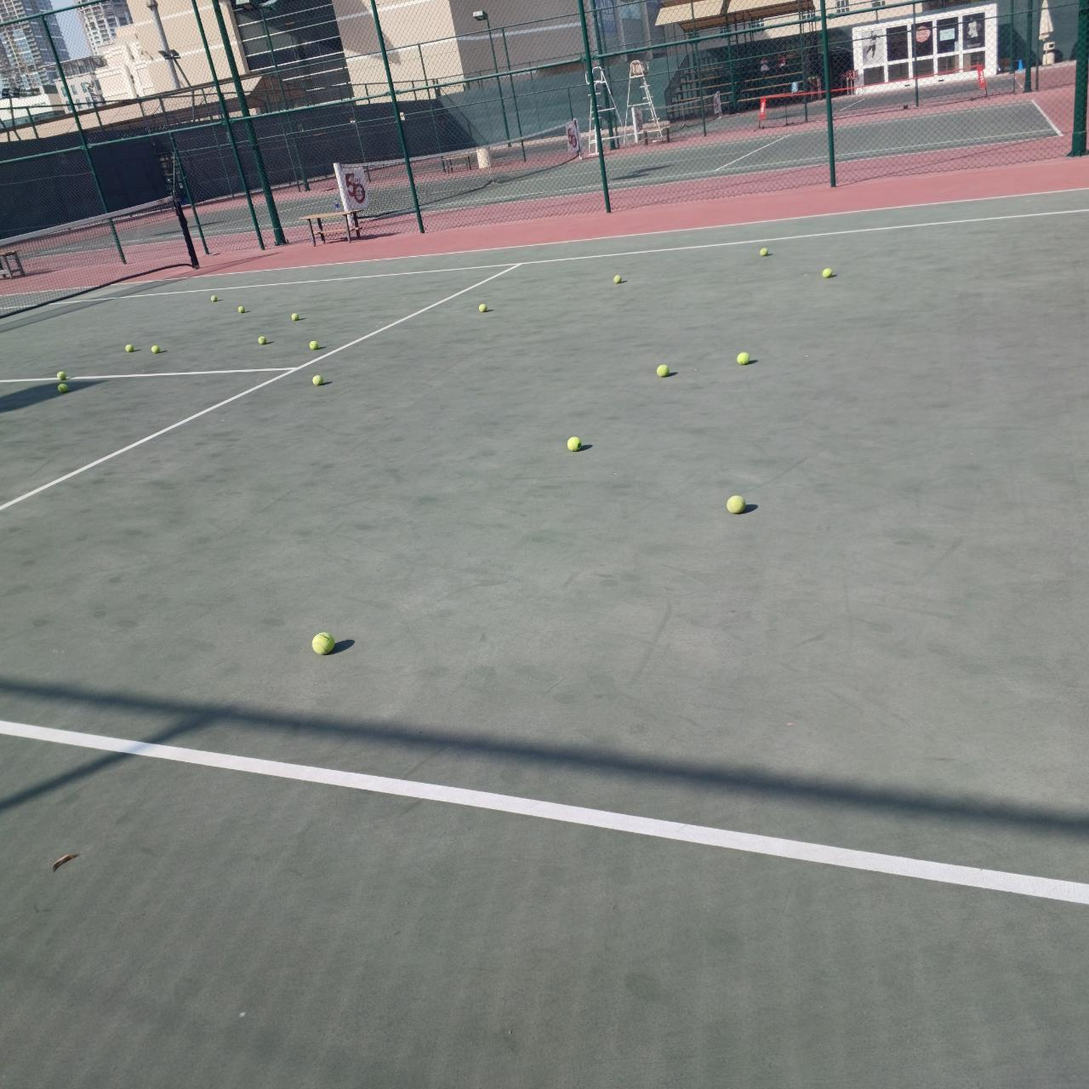tennis-ball: (310, 630, 334, 654), (724, 493, 744, 513), (565, 434, 581, 451), (734, 350, 750, 364), (656, 363, 670, 377), (820, 265, 834, 278), (310, 373, 323, 385), (57, 383, 68, 393), (56, 371, 67, 381), (257, 336, 267, 346), (478, 303, 487, 313), (309, 341, 319, 350), (151, 345, 160, 354), (125, 344, 134, 353), (759, 248, 768, 257), (613, 274, 621, 284), (291, 312, 299, 322), (238, 306, 245, 314), (210, 295, 218, 302)
